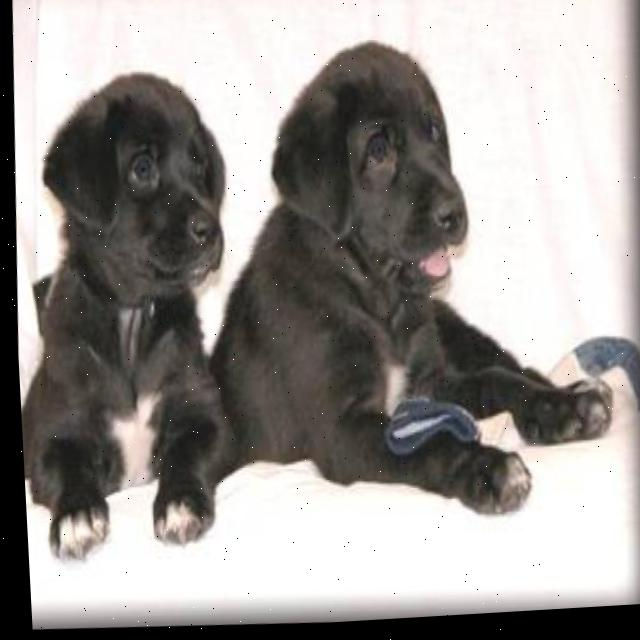dogs: (183, 14, 613, 551), (2, 45, 247, 586)
